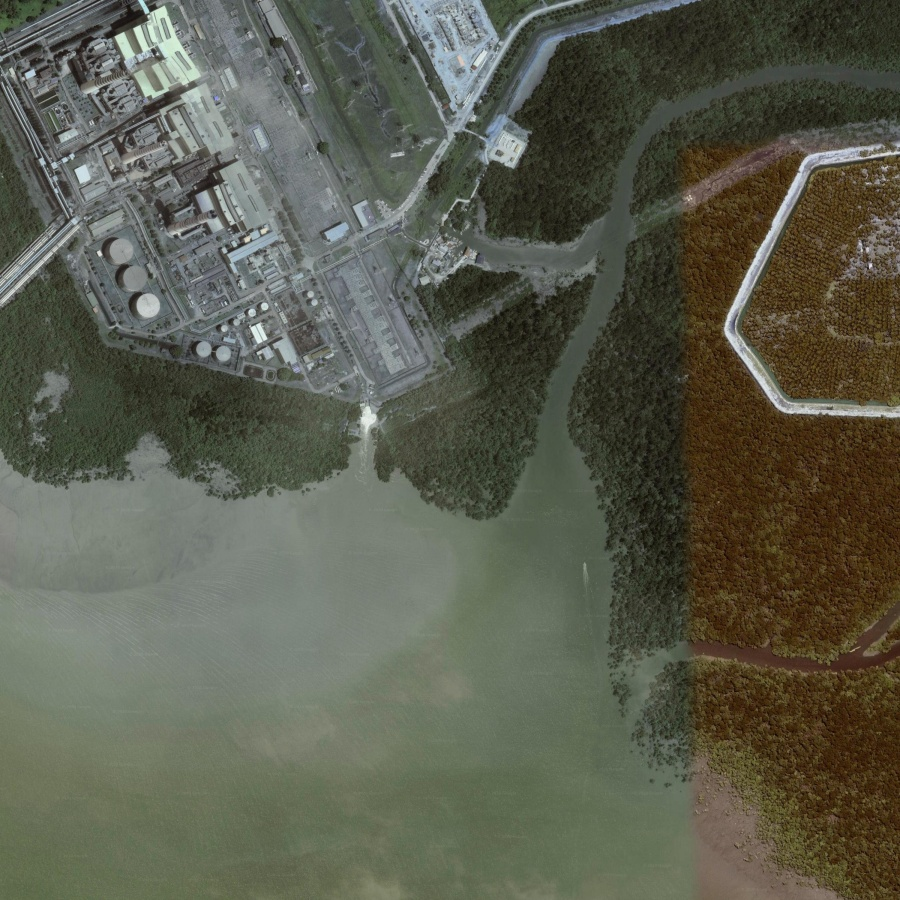PowerPlant: (5, 20, 370, 382)
